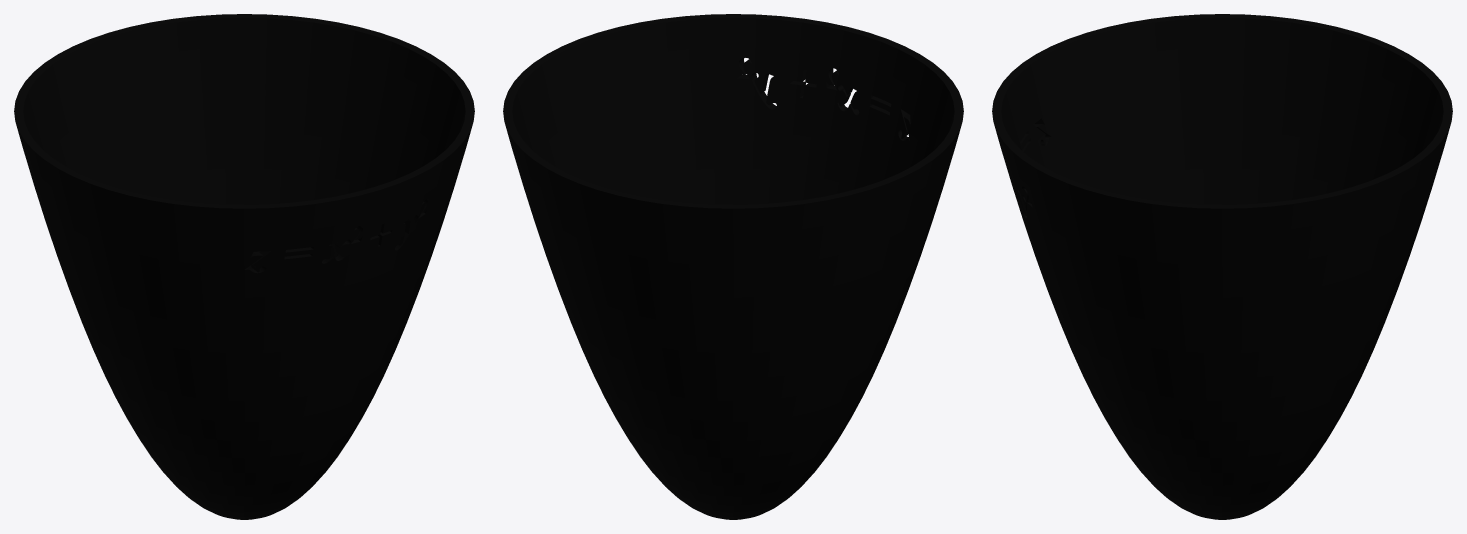
The model's file is paraboloid eliptico.fbx.
The picture shows the model from 3 angles, left to right: view 1: azimuth 30°, elevation 25°; view 2: azimuth 150°, elevation 25°; view 3: azimuth 270°, elevation 25°; orthographic projection.
Parts seen in each view (by area): view 1: root; view 2: root; view 3: root.
Boxes of the visible parts, <box> form: root: <box>14,14,474,519</box>; root: <box>503,14,963,519</box>; root: <box>992,14,1452,519</box>.
Bounding box in the file's own units: 1.02 × 0.9865 × 1.02.
1 material, 1 textured.
